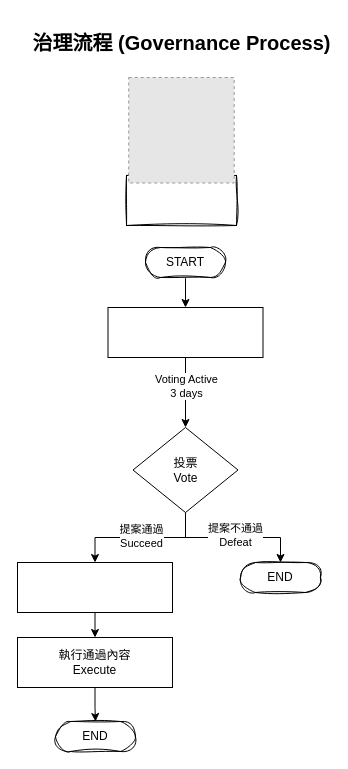
Some shapes in this 348 by 769 pixel diagram are drawn without their labels. Grey dashed boxes stand in for pictures. The shapes that lost their labels are listed below. From the top down, each one's centre as x and y in pixels, then its label:
pixel 181 200: 治理社群 Community
pixel 185 332: 提案/爭議項目 Create a Proposal
pixel 94 587: 進入TimeLock Queue Queue
